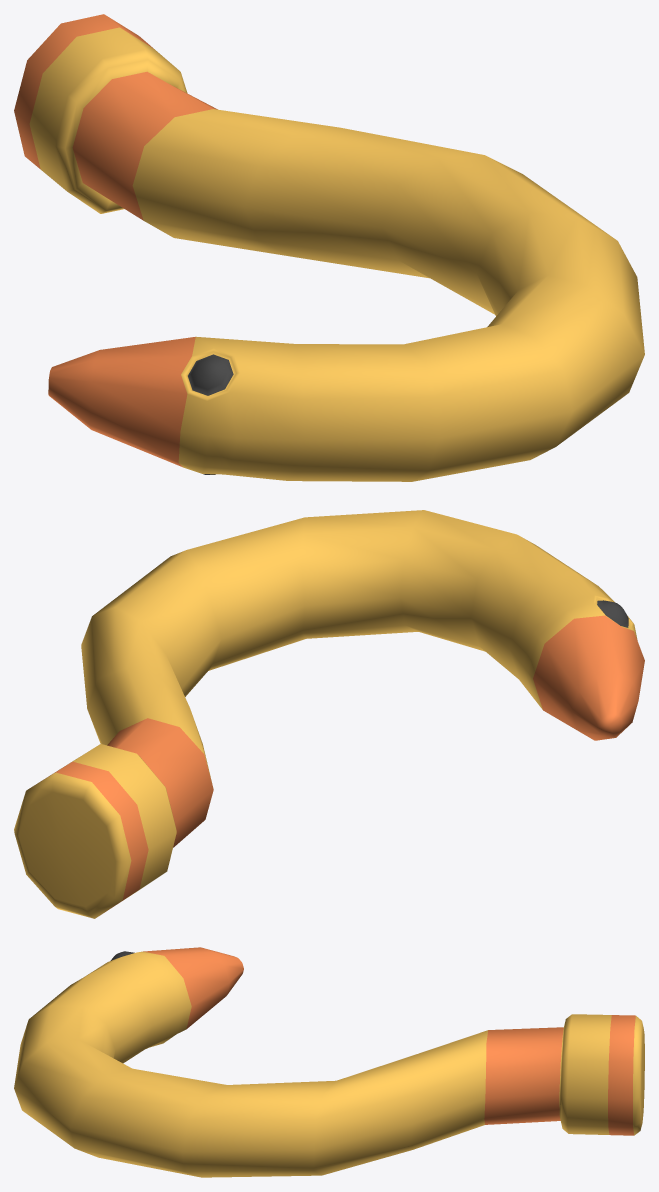
File: gancho.fbx
3 renders of one model, top to bottom at view 1: azimuth 30°, elevation 25°; view 2: azimuth 150°, elevation 25°; view 3: azimuth 270°, elevation 25°, orthographic. The views are drawn at different scales.
Visible parts, largest first — view 1: pCylinder1; view 2: pCylinder1; view 3: pCylinder1.
Boxes of the visible parts, box(x1,y1,x2,y2) form: pCylinder1: box(14, 14, 644, 481); pCylinder1: box(14, 510, 644, 918); pCylinder1: box(14, 947, 644, 1177).
Size of the model in its own units: 4.12 by 1.1 by 5.86.
